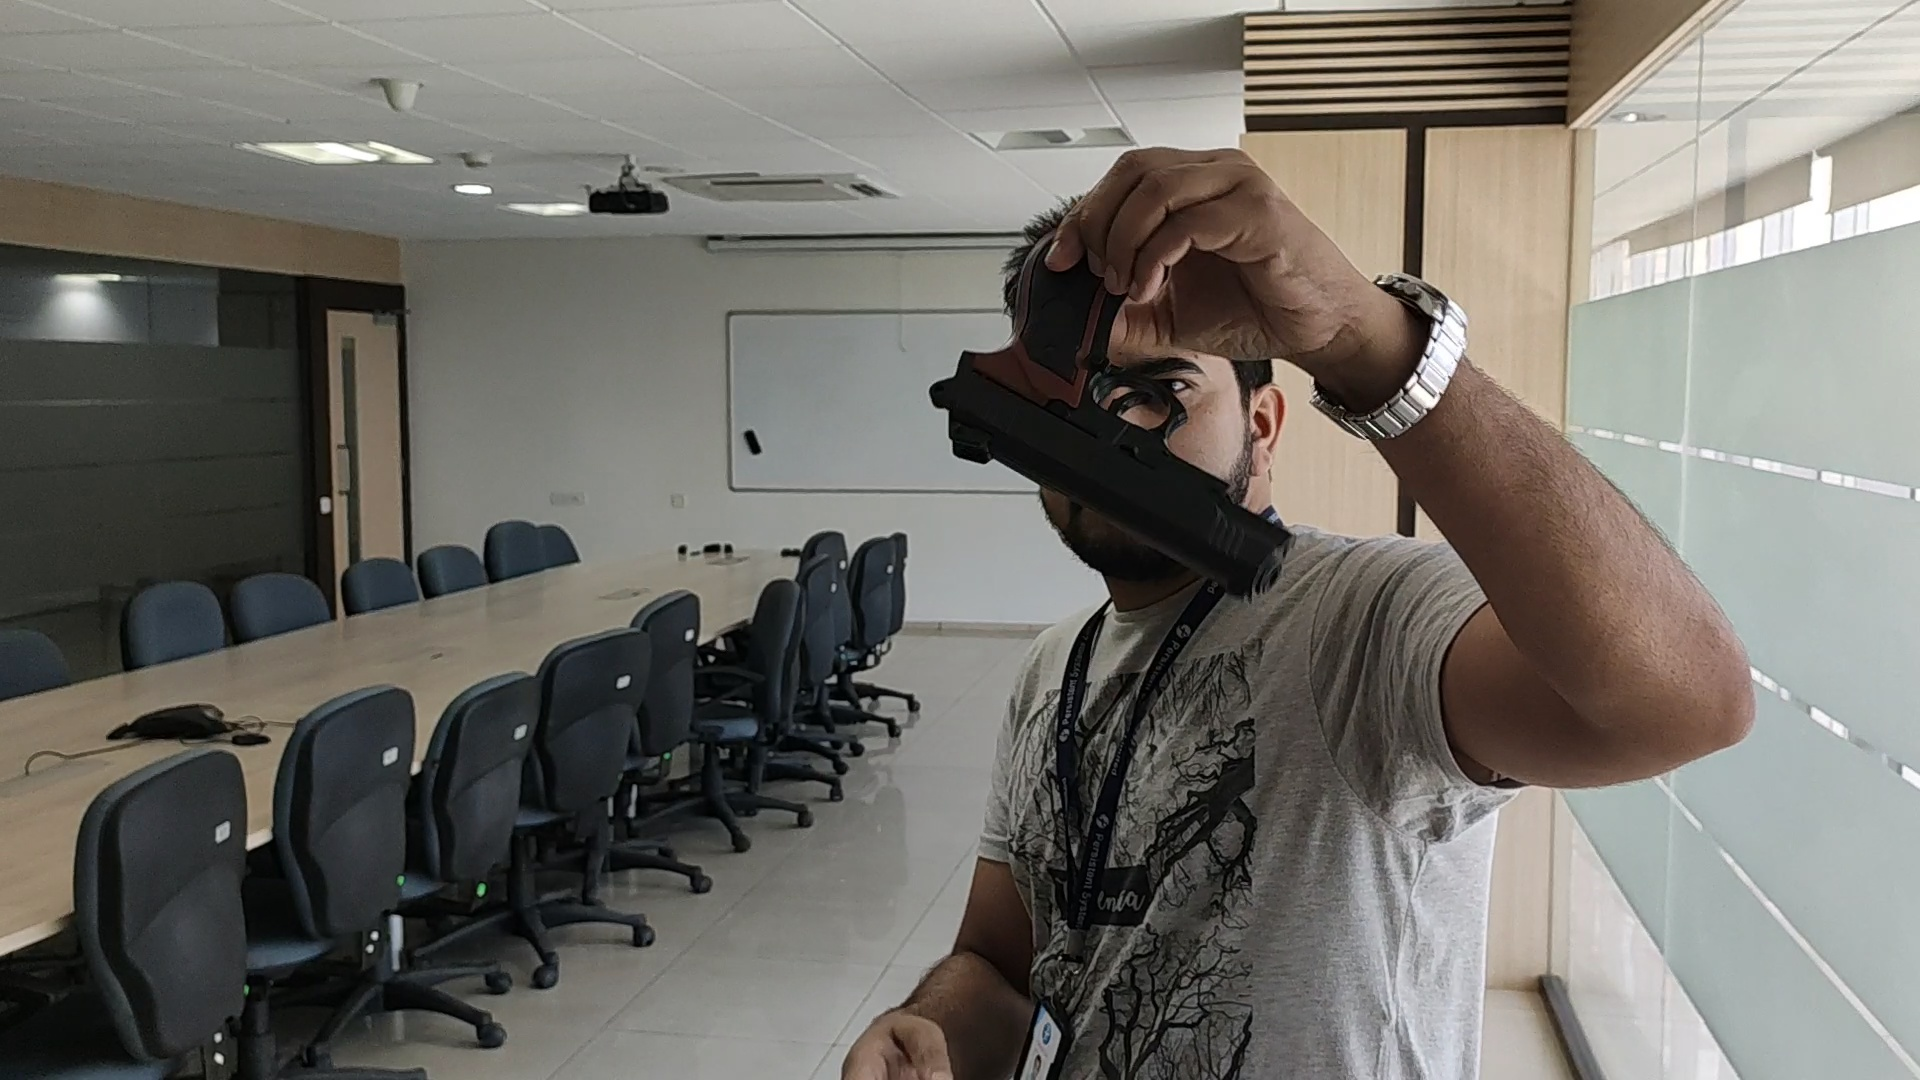gun: (928, 306, 1294, 601)
